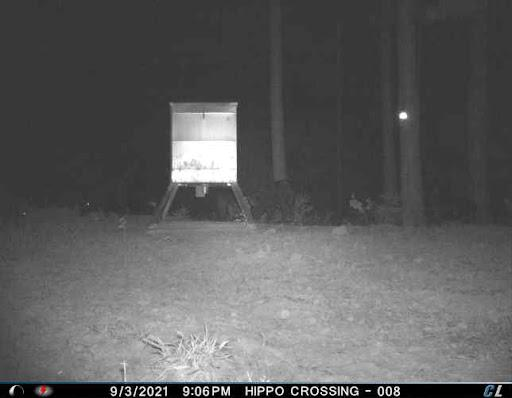Hog: (247, 177, 302, 227), (74, 176, 129, 221), (0, 180, 34, 233)
